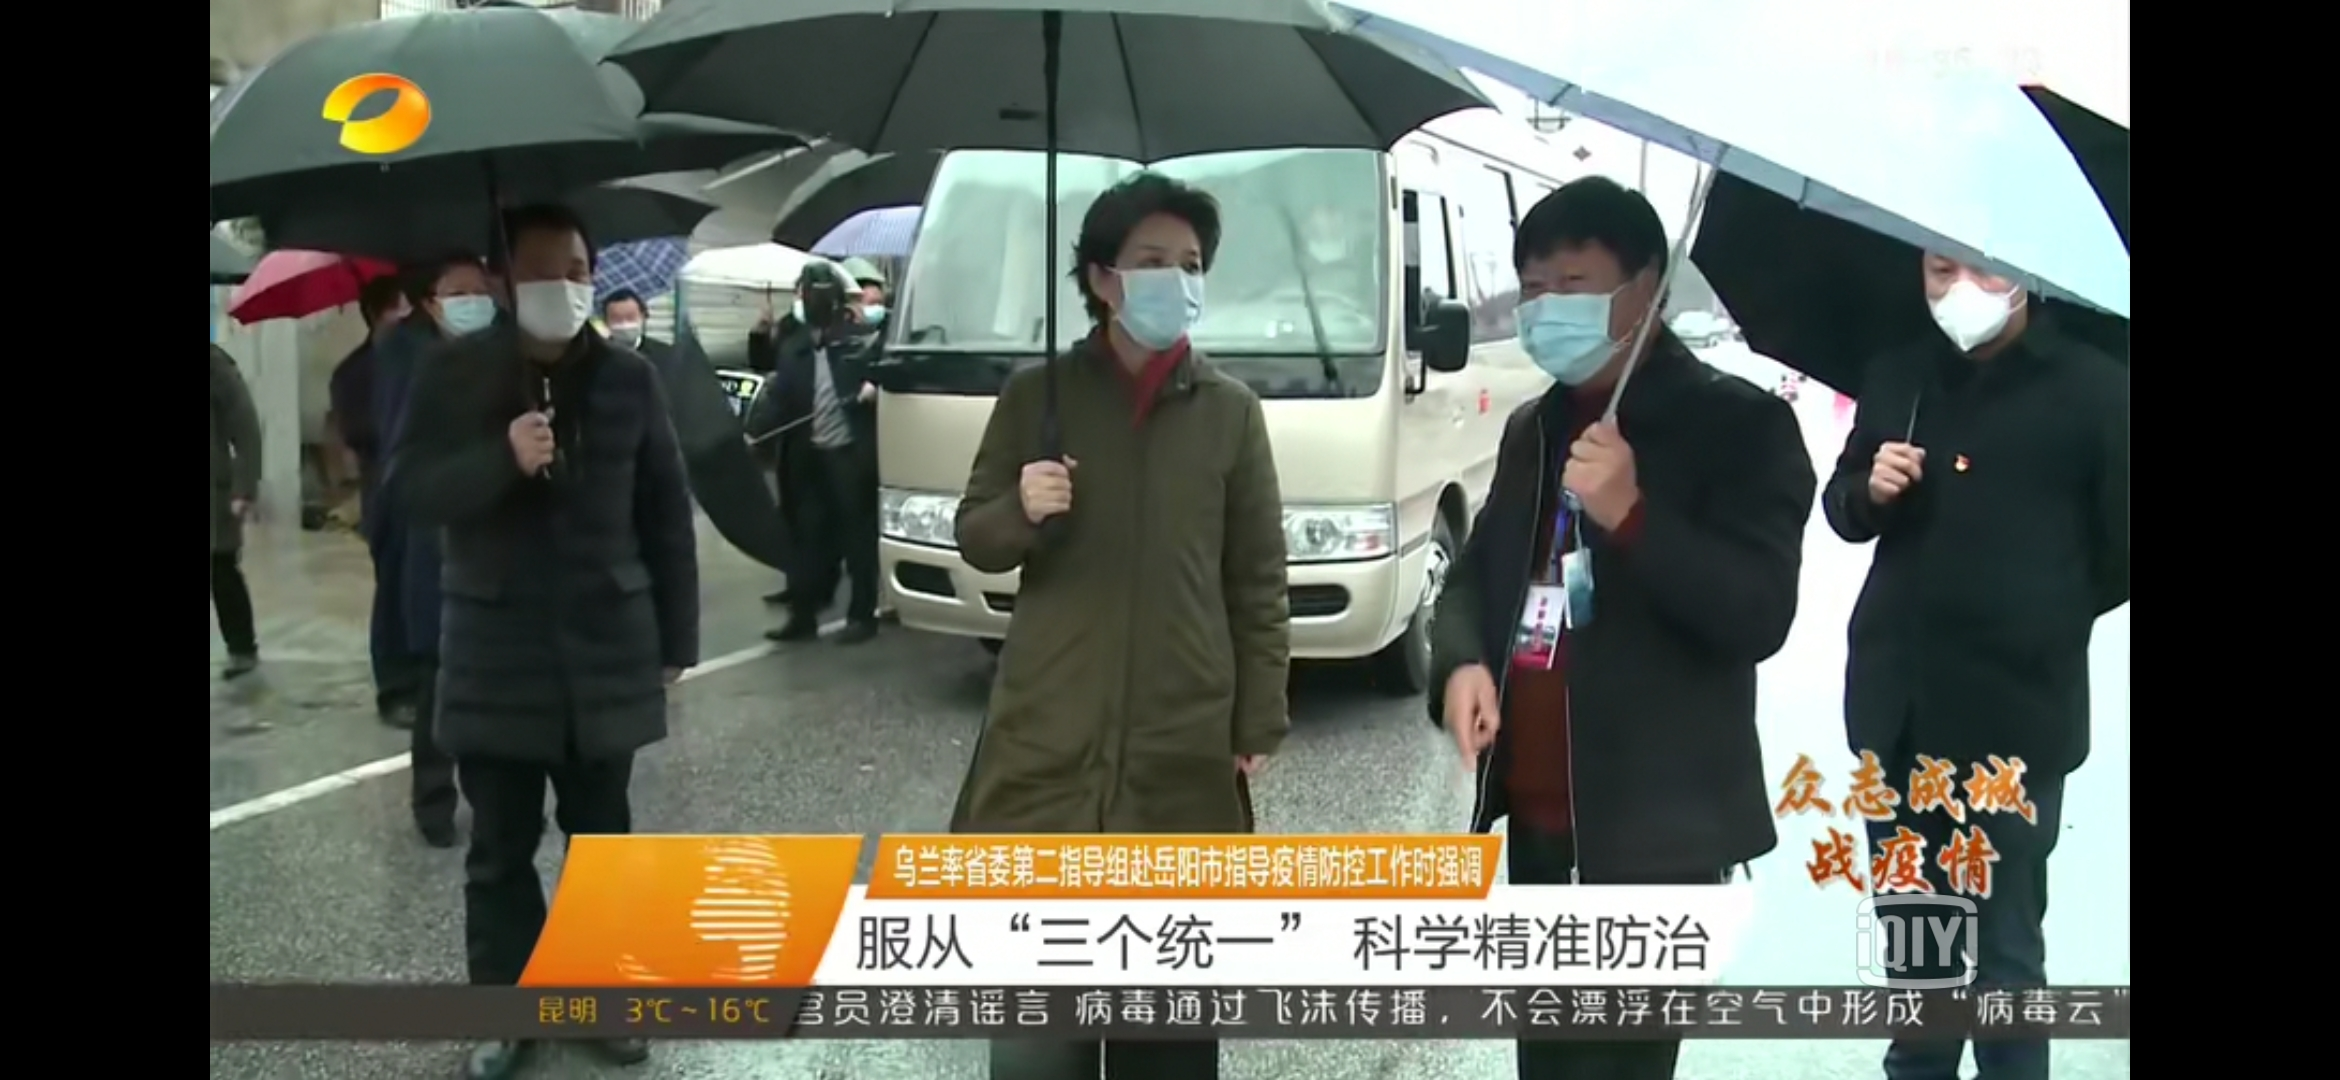correctlyWear: (1510, 240, 1657, 383), (1077, 228, 1210, 348), (1921, 254, 2027, 354), (507, 246, 598, 340), (427, 274, 498, 336), (604, 301, 648, 343), (858, 289, 888, 324), (791, 283, 807, 324)
